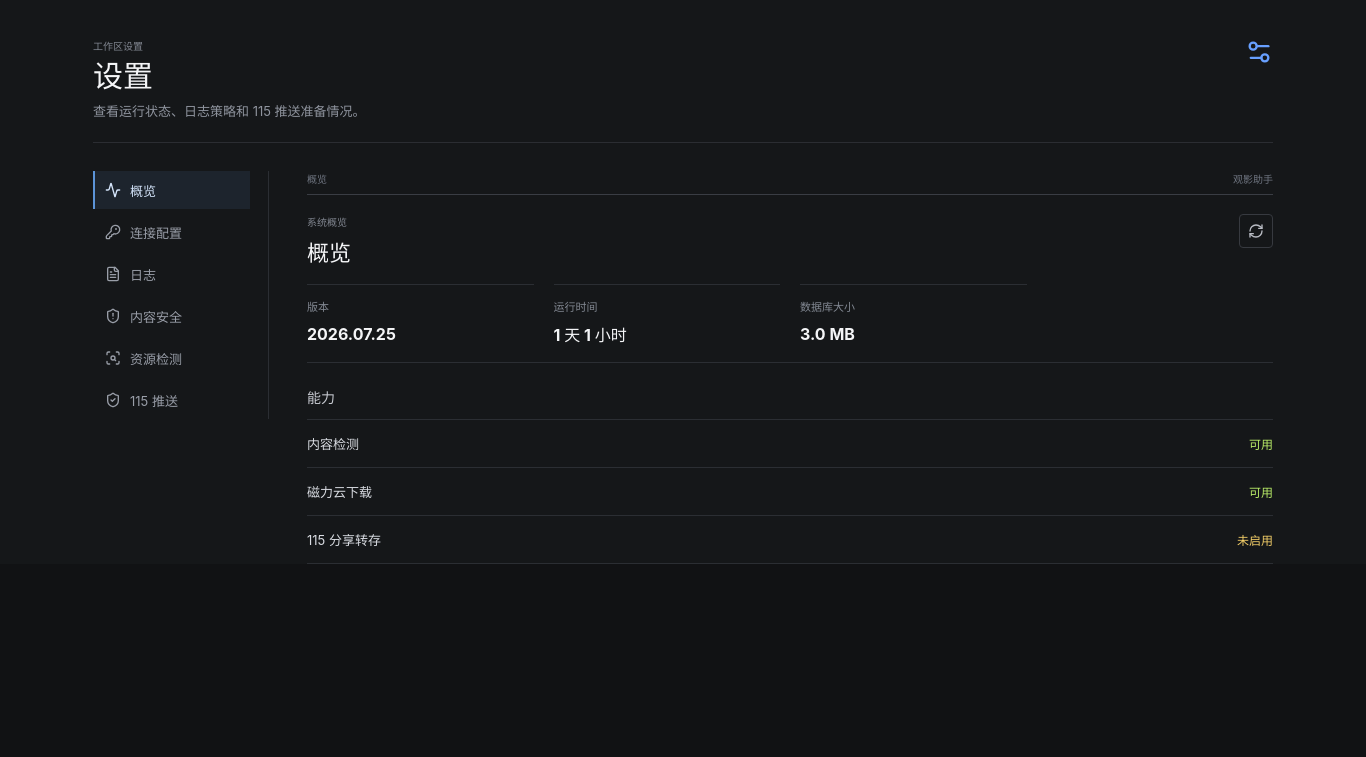
Test: SettingsView › loads the first cursor page and appends later pages with id de-duplication
What coordinates should you click on to do the following:
click the button "日志"
I would click on:
 (172, 274)
Its box is [93,255,250,293].
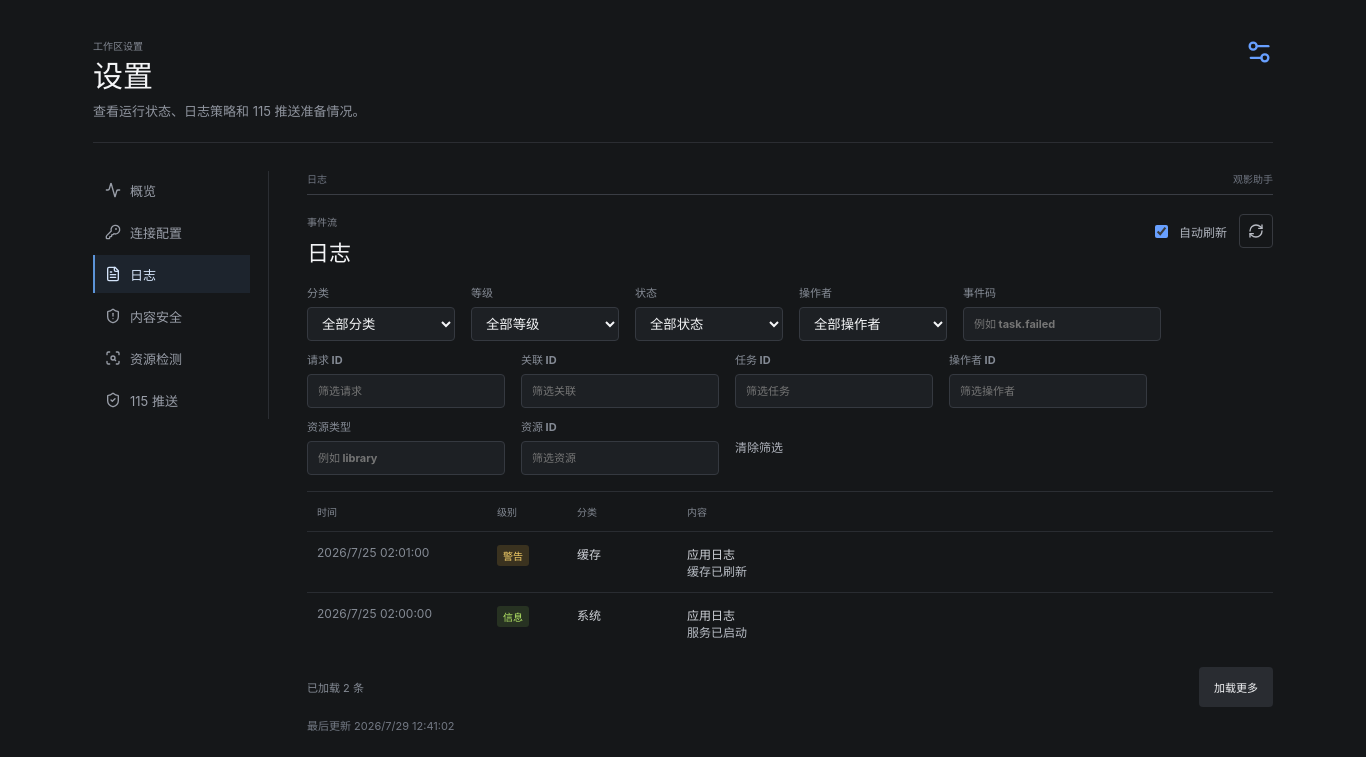
Result: the element with class "settings-pagination" shows "已加载 2 条" at [307,681,364,695]
What coordinates should you click on to do the following:
click the button "加载更多"
I would click on:
 (1236, 687)
Its box is [1199,667,1273,707].
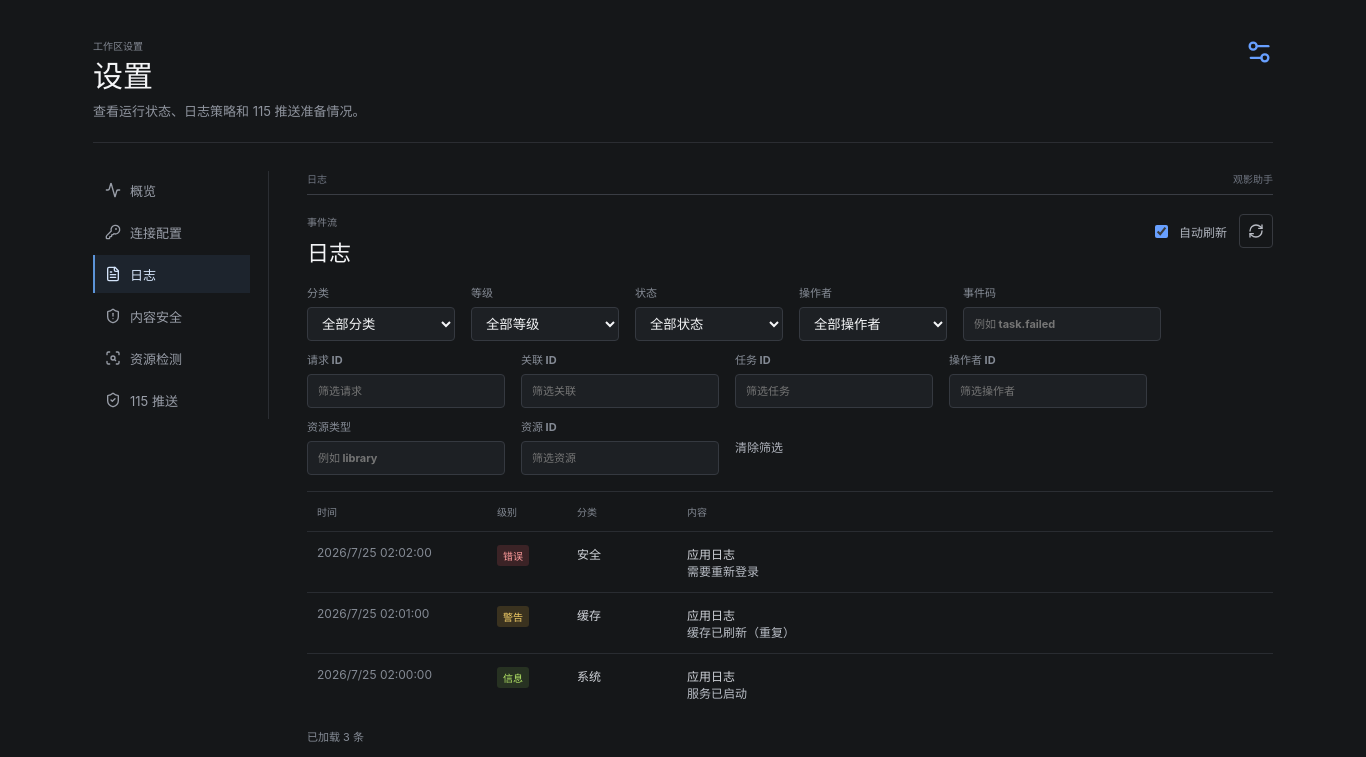
Result: the text "需要重新登录" is shown at [687,564,759,579]
